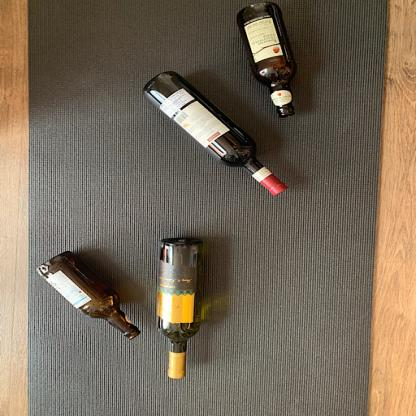trash: (141, 69, 291, 198), (34, 248, 145, 340), (234, 3, 300, 122), (152, 236, 206, 379)
